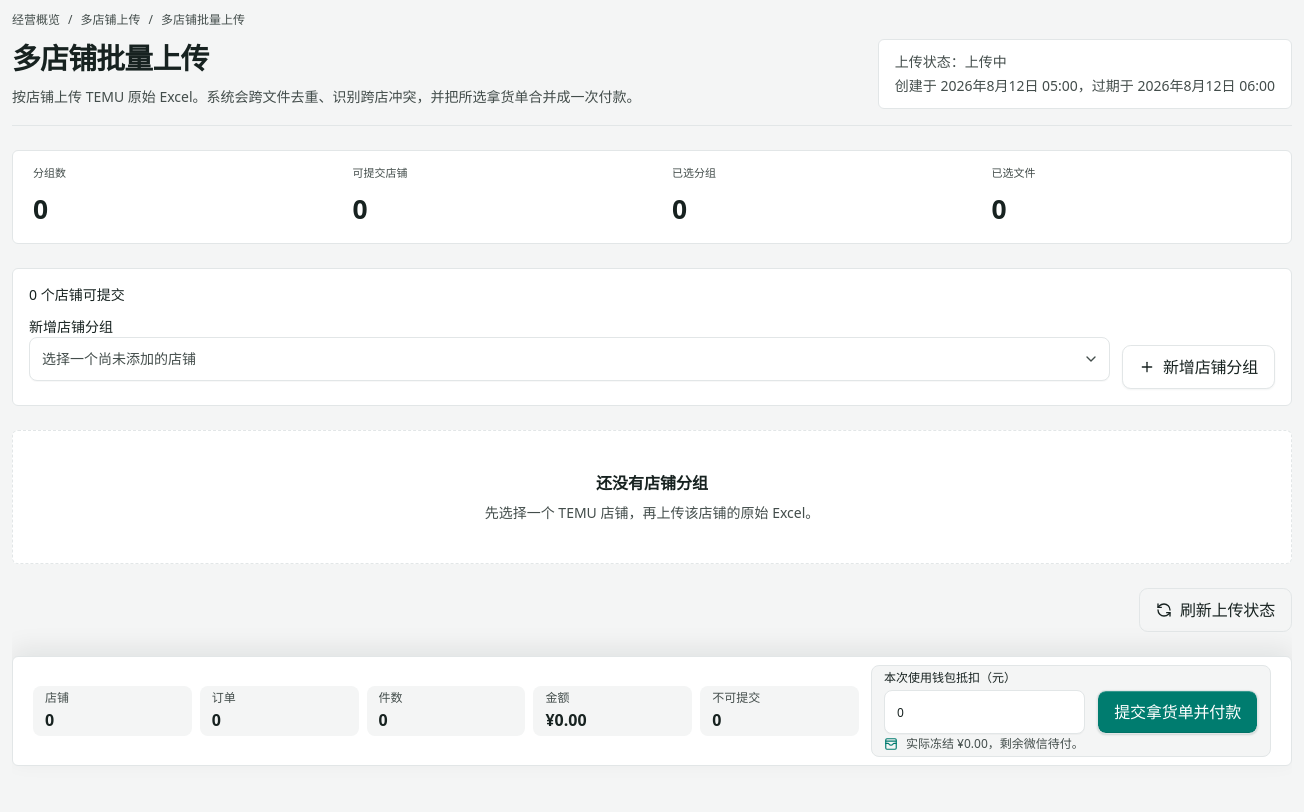
Test: BulkOrderWorkspace › focuses the store selector when trying to create a blank store group
Click the button "新增店铺分组": {"x": 1198, "y": 367} [1122,345,1275,389]
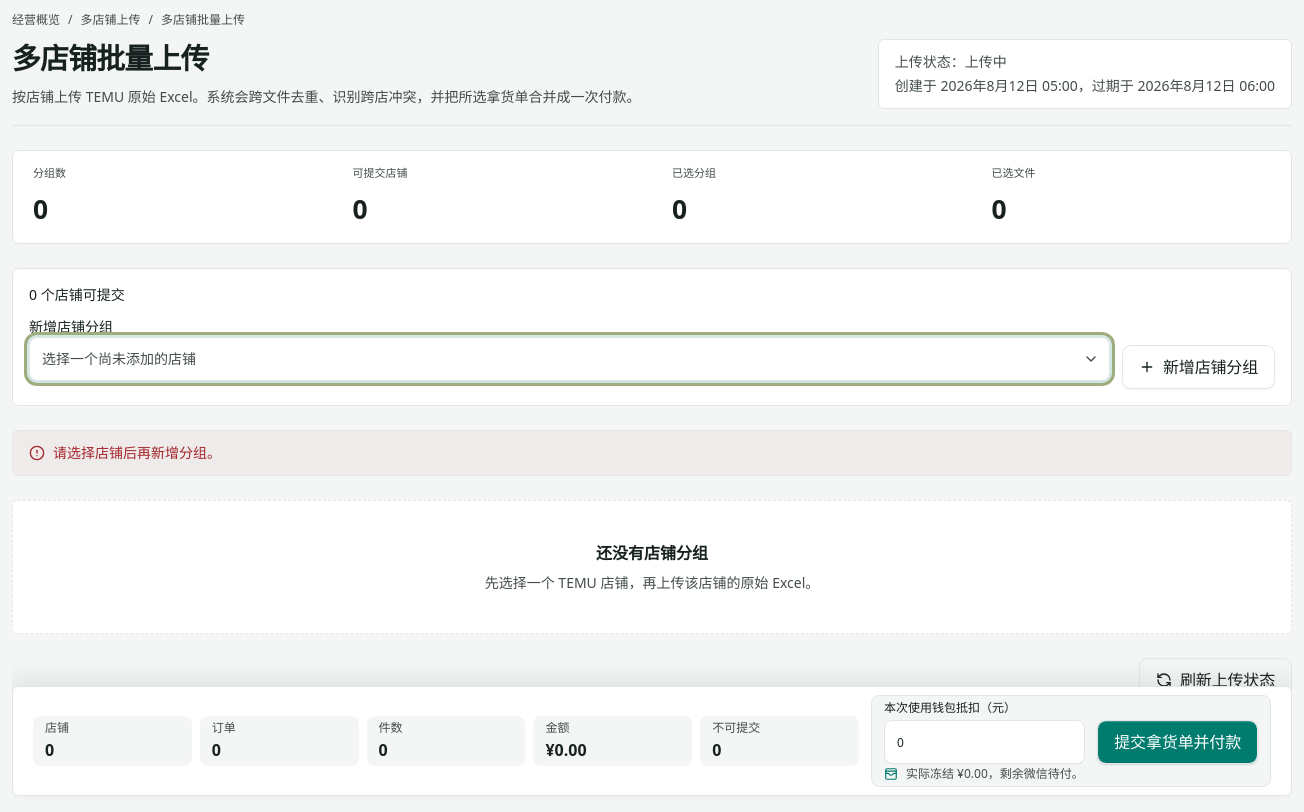
Expected: the message reads "请选择店铺后再新增分组。", [53,443,221,462]
